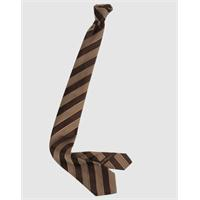tie: (50, 4, 132, 196)
